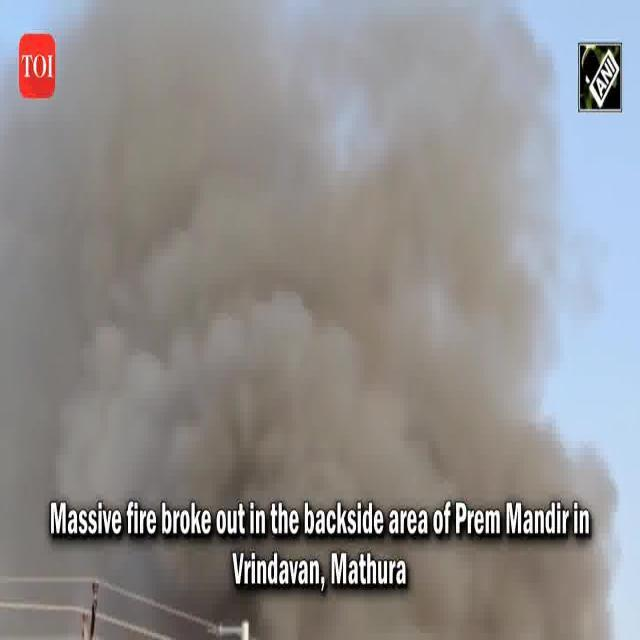Smoke: (34, 148, 524, 538)
